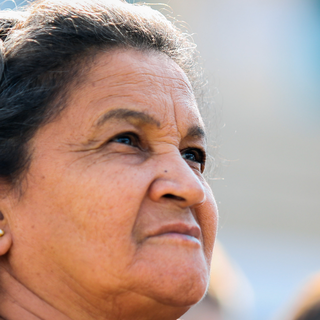eye: (100, 127, 147, 156), (172, 141, 208, 169)
